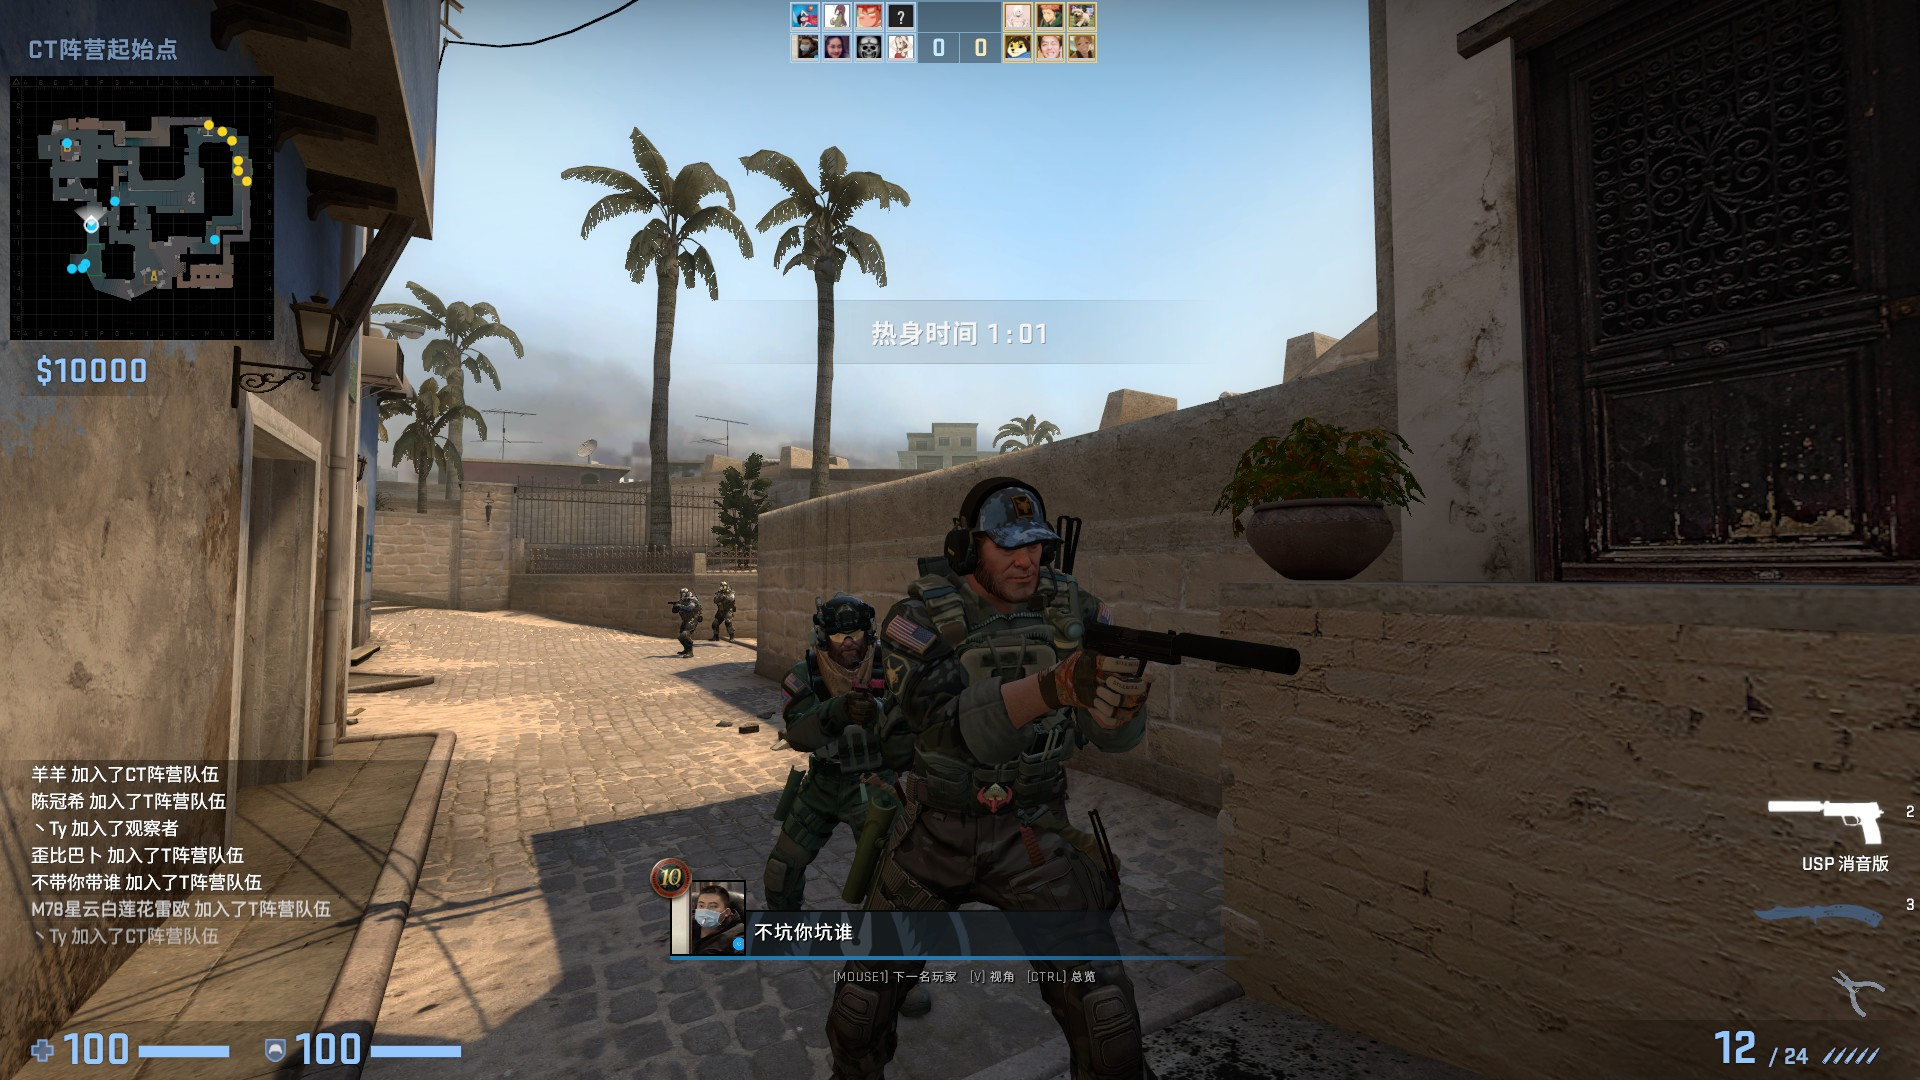head: (945, 475, 1048, 597), (813, 593, 879, 665), (677, 587, 692, 602), (718, 580, 731, 594)
